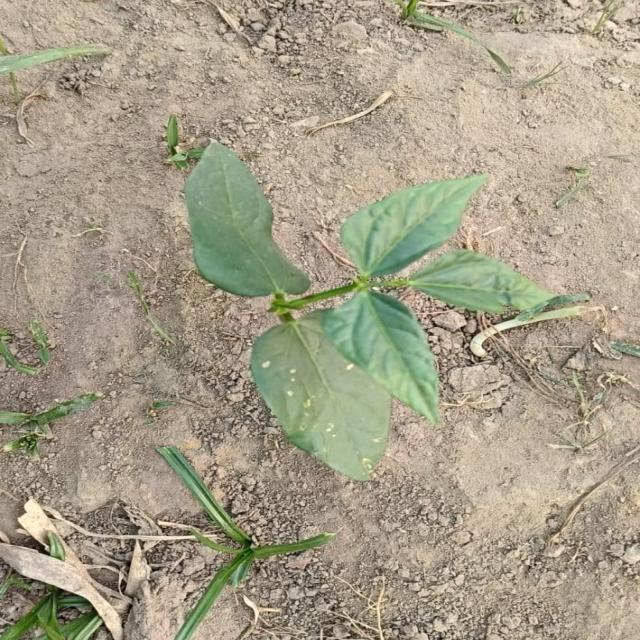plant: (186, 144, 553, 480)
